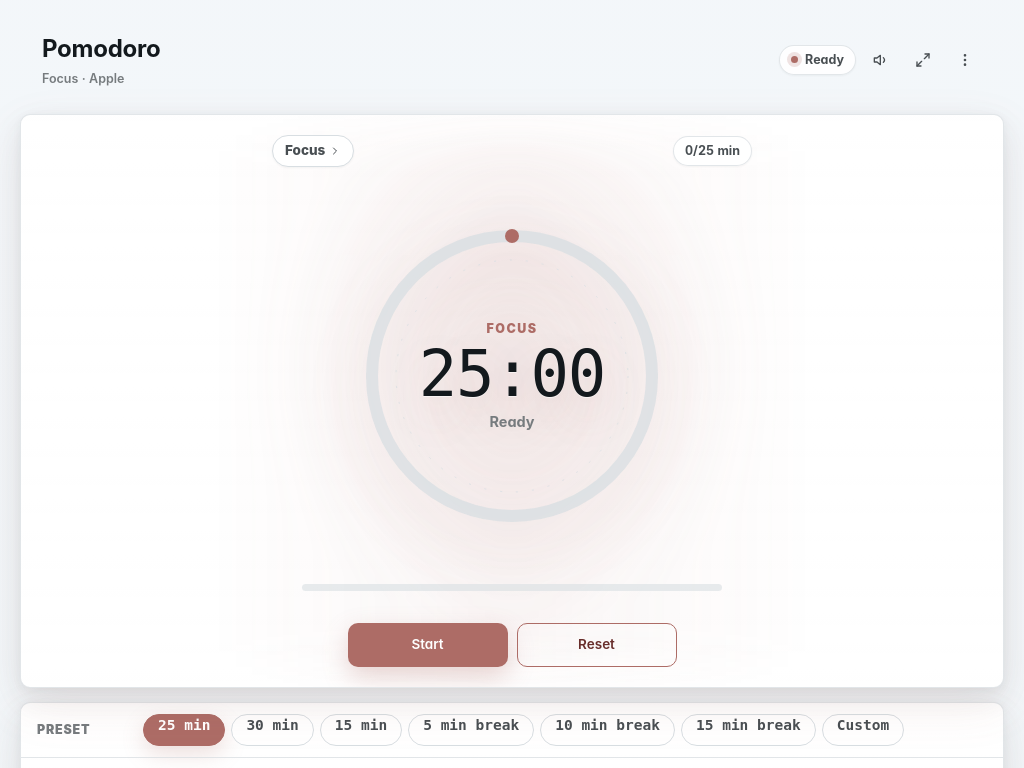
PomodoroModule › M5: Pause mid-run freezes remaining
The width and height of the screenshot is (1024, 768).
Click the button with test id "start-btn" at (428, 645), box [348,623,508,667]
Wait 2000 ms
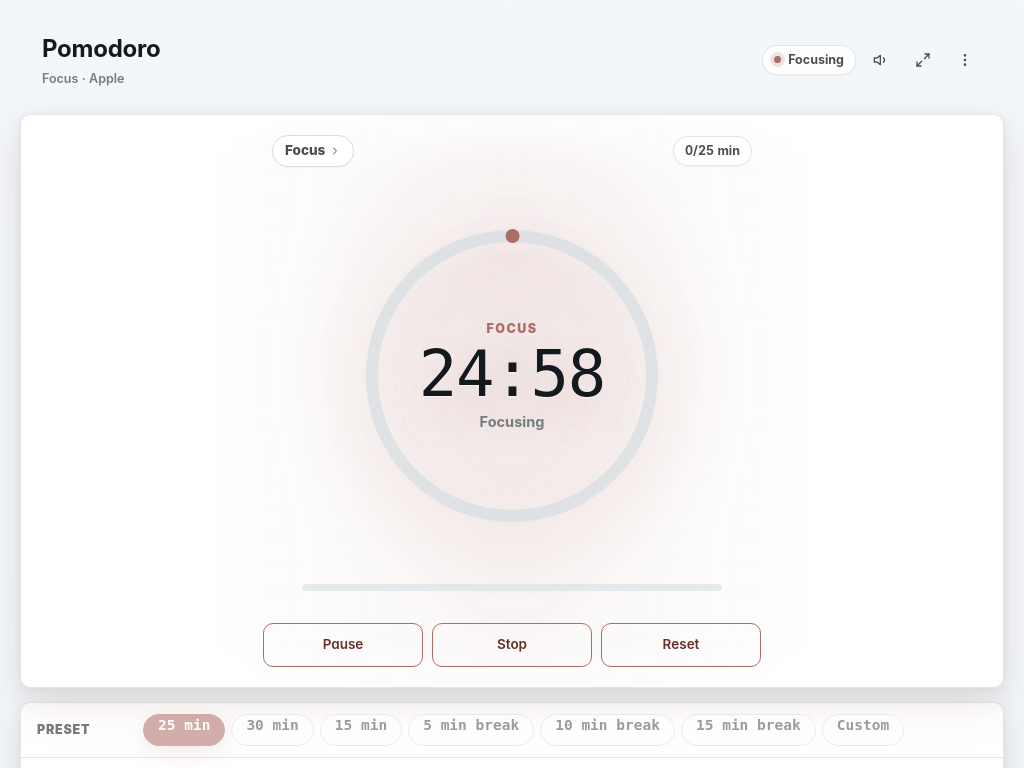
Click the button with test id "pause-btn" at (343, 645), box [263,623,423,667]
Wait 5000 ms
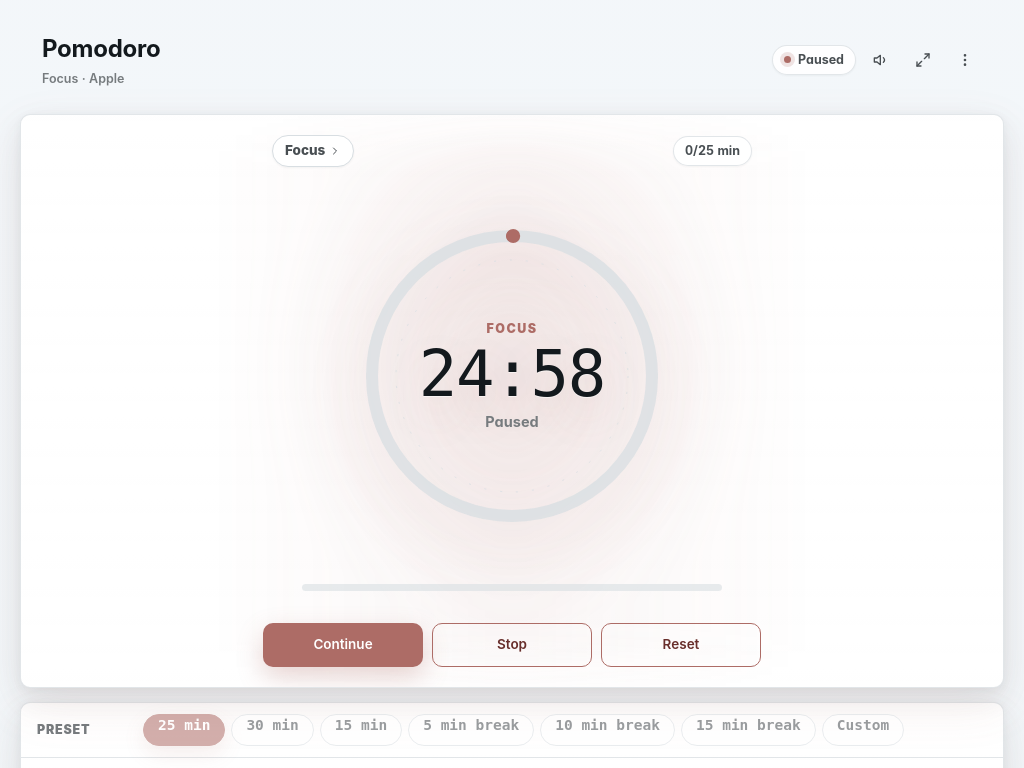
expect the text with test id "timer-state" reads "Paused": met, box [485,412,539,430]
